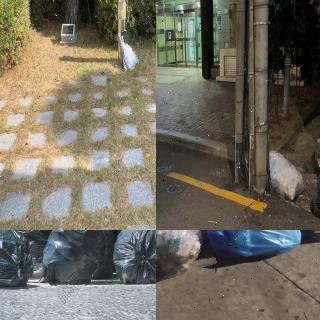Garbage: (40, 230, 106, 285), (197, 230, 303, 260), (156, 230, 213, 279), (113, 230, 156, 286), (265, 147, 306, 200), (5, 230, 60, 269), (0, 230, 36, 289), (305, 150, 320, 228), (119, 31, 139, 71)
